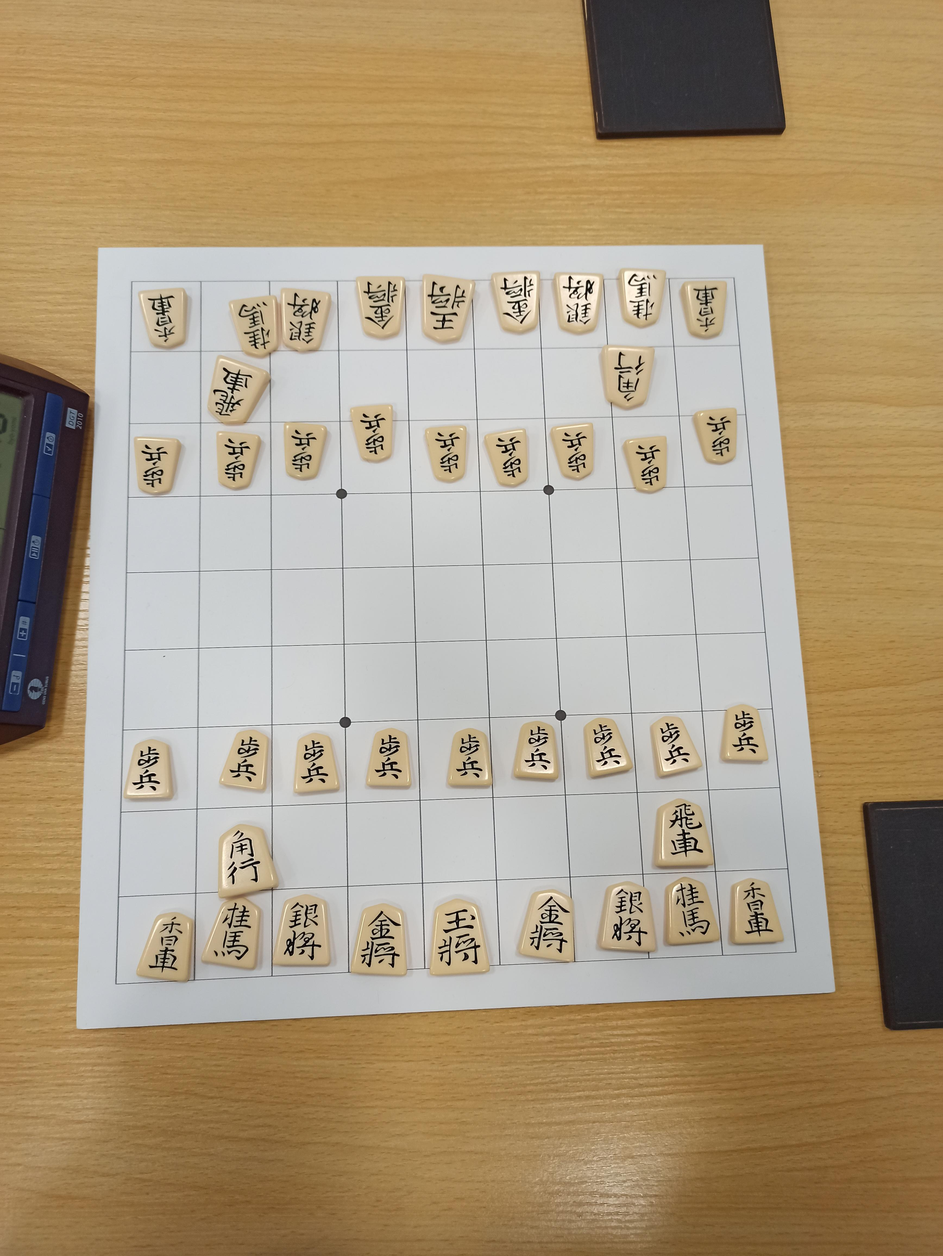board: (116, 279, 797, 985)
